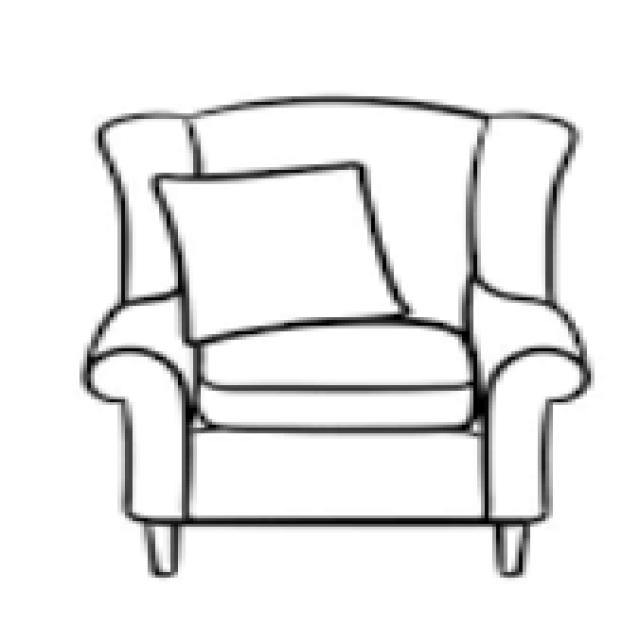Backrest: (153, 96, 493, 339)
Leg_Structure: (133, 515, 549, 587)
Seat: (194, 317, 480, 433)
Wing_Flange: (93, 114, 202, 302), (475, 113, 576, 302)
sofa_armrest: (471, 286, 588, 519), (85, 291, 197, 524)
